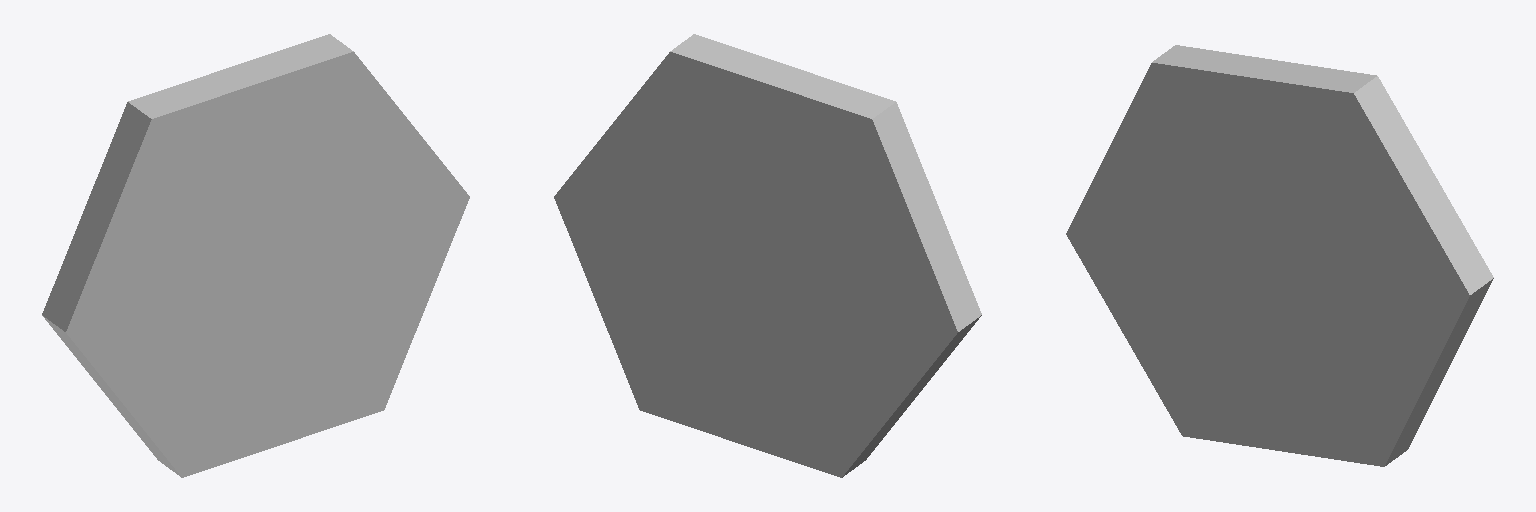
Rendered from P_Modul_19_Col4_Mesh.obj.
The picture shows the model from 3 angles: view 1: azimuth 30°, elevation 25°; view 2: azimuth 150°, elevation 25°; view 3: azimuth 330°, elevation 25°; orthographic projection.
Visible parts, largest first — view 1: P_Modul_19_Col4_Mesh; view 2: P_Modul_19_Col4_Mesh; view 3: P_Modul_19_Col4_Mesh.
Boxes of the visible parts, x1,y1,x2,y2 form: P_Modul_19_Col4_Mesh: [42, 34, 469, 477]; P_Modul_19_Col4_Mesh: [554, 34, 981, 477]; P_Modul_19_Col4_Mesh: [1066, 45, 1493, 466].
Bounding box in the file's own units: 5.49 × 5 × 0.5662.